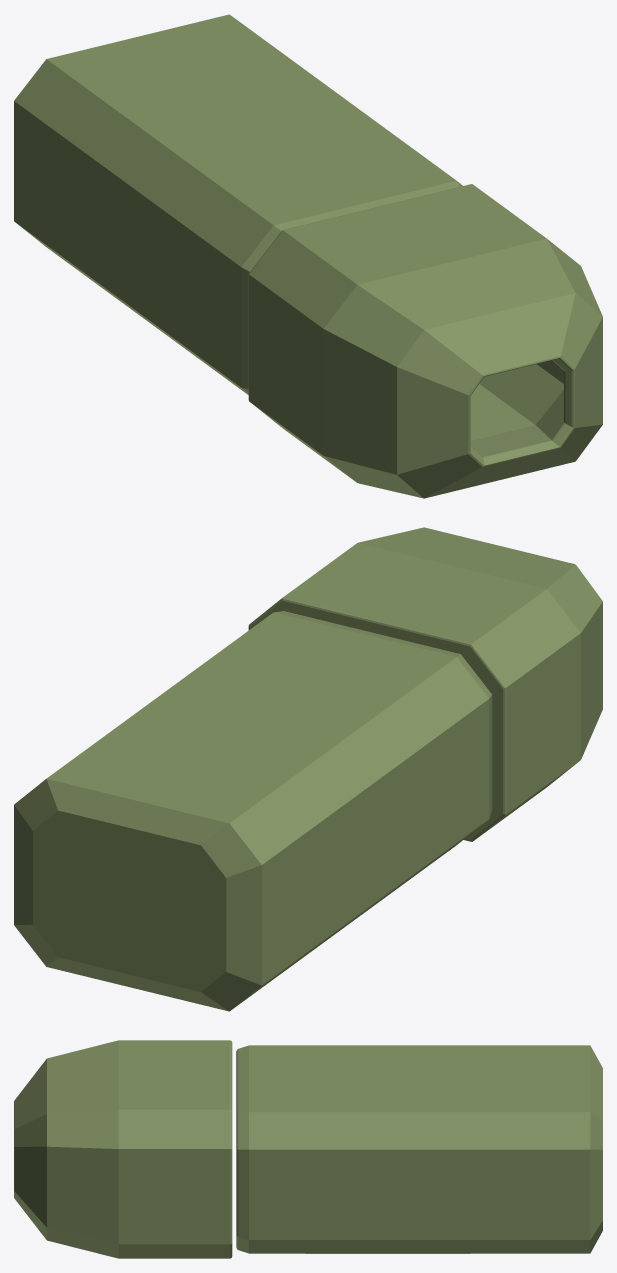
The model's file is deodorant.glb.
3 renders of one model, top to bottom at view 1: azimuth 30°, elevation 25°; view 2: azimuth 150°, elevation 25°; view 3: azimuth 270°, elevation 25°, orthographic. The views are drawn at different scales.
Visible parts, largest first — view 1: deodorant; view 2: deodorant; view 3: deodorant.
Boxes of the visible parts, x1,y1,x2,y2 form: deodorant: (14,14,602,498); deodorant: (14,527,602,1011); deodorant: (14,1040,602,1258).
Size of the model in its own units: 0.053 by 0.0399 by 0.1398.
